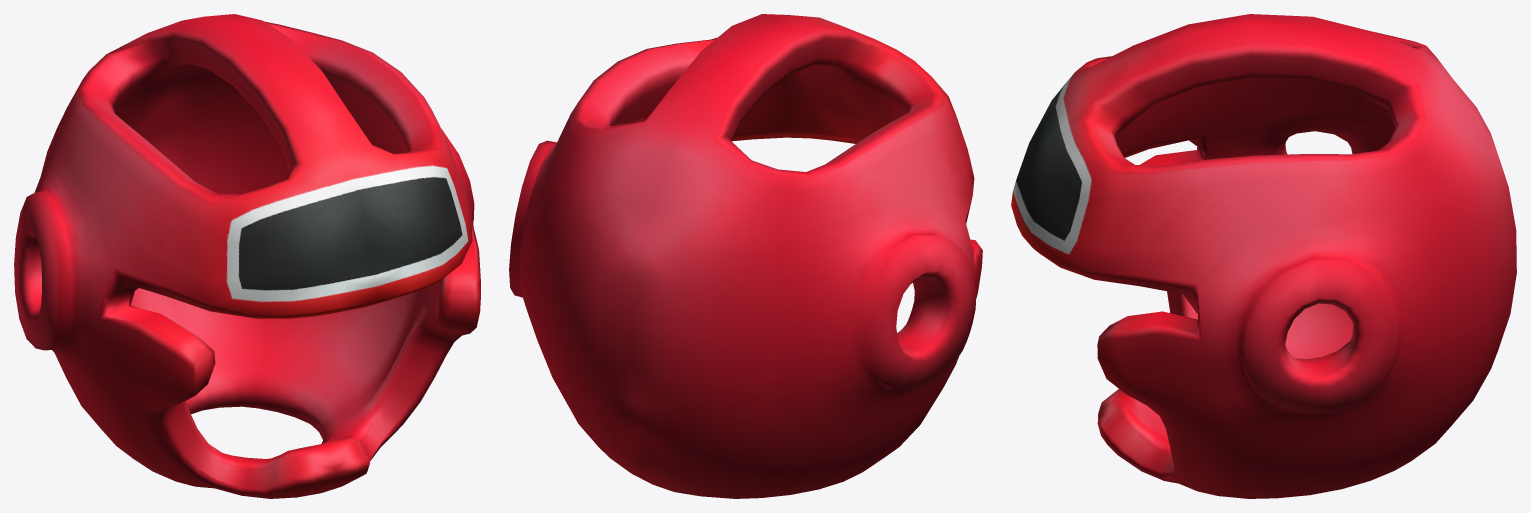
File: Boxing_Hat.glb
3 renders of one model, left to right at view 1: azimuth 30°, elevation 25°; view 2: azimuth 150°, elevation 25°; view 3: azimuth 270°, elevation 25°, orthographic. The views are drawn at different scales.
Visible parts, largest first — view 1: Boxing_Hat; view 2: Boxing_Hat; view 3: Boxing_Hat.
Part boxes in pixels (x1,y1,x2,y2): Boxing_Hat: [14, 14, 480, 498]; Boxing_Hat: [509, 14, 982, 498]; Boxing_Hat: [1011, 14, 1516, 498].
Size of the model in its own units: 0.6092 by 0.5847 by 0.6123.
Materials: 1 (1 with a texture image).
